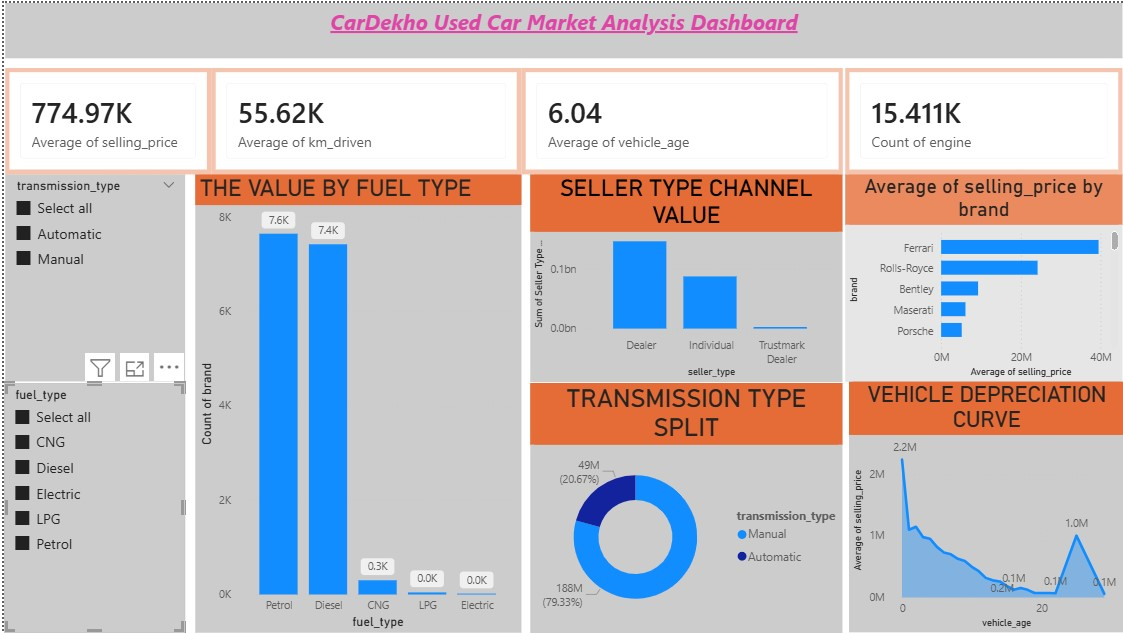

Layout of this report page (visuals, bound fields, positions):
{"tool":"powerbi","page":{"name":"Dashboard","canvas":[1280,720],"ordinal":5},"visuals":[{"type":"clusteredBarChart","fields":{"Y":["Avg(cardekho_dataset (1).selling_price)"],"Category":["cardekho_dataset (1).brand"]},"box":[961.9,196.2,317,237.4],"z":0},{"type":"donutChart","title":"TRANSMISSION TYPE SPLIT","fields":{"Y":["Sum(cardekho_dataset (1).Transmission Count)"],"Category":["cardekho_dataset (1).transmission_type"]},"box":[601,433.6,356.8,286.8],"z":1000},{"type":"columnChart","title":"SELLER TYPE CHANNEL VALUE","fields":{"Category":["cardekho_dataset (1).seller_type"],"Y":["Sum(cardekho_dataset (1).Seller Type Count)"]},"box":[601,196.2,356.8,237.4],"z":2000},{"type":"lineStackedColumnComboChart","title":"THE VALUE BY FUEL TYPE","fields":{"Category":["cardekho_dataset (1).fuel_type"],"Y":["CountNonNull(cardekho_dataset (1).brand)"]},"box":[218.6,195.7,372.9,524.3],"z":3000},{"type":"areaChart","title":"VEHICLE DEPRECIATION CURVE","fields":{"Category":["cardekho_dataset (1).vehicle_age"],"Y":["Avg(cardekho_dataset (1).selling_price)"]},"box":[965,433.3,315,286.7],"z":4000},{"type":"slicer","fields":{"Values":["cardekho_dataset (1).fuel_type"]},"box":[0,433.6,207.2,286.8],"z":5000},{"type":"slicer","fields":{"Values":["cardekho_dataset (1).transmission_type"]},"box":[1.4,195.7,205.7,237.1],"z":6000},{"type":"textbox","box":[1.4,0,1277.1,62.9],"z":7000},{"type":"cardVisual","fields":{"Data":["Avg(cardekho_dataset (1).selling_price)"]},"box":[1.4,74.3,235.7,121.4],"z":8000},{"type":"cardVisual","fields":{"Data":["Avg(cardekho_dataset (1).km_driven)"]},"box":[237.1,74.3,354.3,121.4],"z":9000},{"type":"cardVisual","fields":{"Data":["Avg(cardekho_dataset (1).vehicle_age)"]},"box":[591.4,74.3,367.1,121.4],"z":10000},{"type":"cardVisual","fields":{"Data":["CountNonNull(cardekho_dataset (1).engine)"]},"box":[961.4,74.3,317.1,121.4],"z":11000}]}

Visuals, with their boxes in screenshot pixels (x1, y1, x2, y2), scaled from the page's 1280x720 canvas onto the 1123x633 screenshot:
clusteredBarChart - Avg(cardekho_dataset (1).selling_price) x cardekho_dataset (1).brand: {"x1": 844, "y1": 172, "x2": 1122, "y2": 381}
"TRANSMISSION TYPE SPLIT" donutChart: {"x1": 527, "y1": 381, "x2": 840, "y2": 632}
"SELLER TYPE CHANNEL VALUE" columnChart: {"x1": 527, "y1": 172, "x2": 840, "y2": 381}
"THE VALUE BY FUEL TYPE" lineStackedColumnComboChart: {"x1": 192, "y1": 172, "x2": 519, "y2": 632}
"VEHICLE DEPRECIATION CURVE" areaChart: {"x1": 847, "y1": 381, "x2": 1122, "y2": 632}
slicer - cardekho_dataset (1).fuel_type: {"x1": 0, "y1": 381, "x2": 182, "y2": 632}
slicer - cardekho_dataset (1).transmission_type: {"x1": 1, "y1": 172, "x2": 182, "y2": 381}
textbox: {"x1": 1, "y1": 0, "x2": 1122, "y2": 55}
cardVisual - Avg(cardekho_dataset (1).selling_price): {"x1": 1, "y1": 65, "x2": 208, "y2": 172}
cardVisual - Avg(cardekho_dataset (1).km_driven): {"x1": 208, "y1": 65, "x2": 519, "y2": 172}
cardVisual - Avg(cardekho_dataset (1).vehicle_age): {"x1": 519, "y1": 65, "x2": 841, "y2": 172}
cardVisual - CountNonNull(cardekho_dataset (1).engine): {"x1": 843, "y1": 65, "x2": 1122, "y2": 172}
